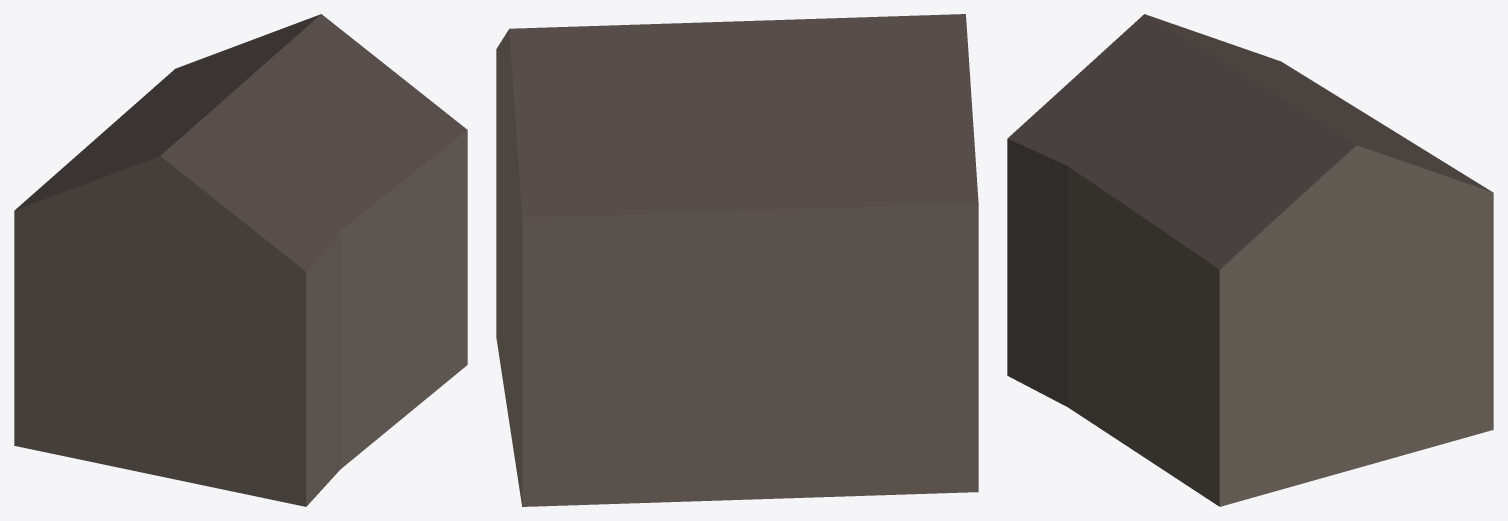
3 renders of one model, left to right at view 1: azimuth 30°, elevation 25°; view 2: azimuth 150°, elevation 25°; view 3: azimuth 270°, elevation 25°, orthographic. The views are drawn at different scales.
Parts seen in each view (by area): view 1: HP-w783664796; view 2: HP-w783664796; view 3: HP-w783664796.
Part boxes in pixels (x1=…): HP-w783664796: x1=14, y1=14, x2=467, y2=506; HP-w783664796: x1=496, y1=14, x2=978, y2=506; HP-w783664796: x1=1007, y1=14, x2=1493, y2=506.
Bounding box in the file's own units: 11.29 × 8.18 × 11.14.
